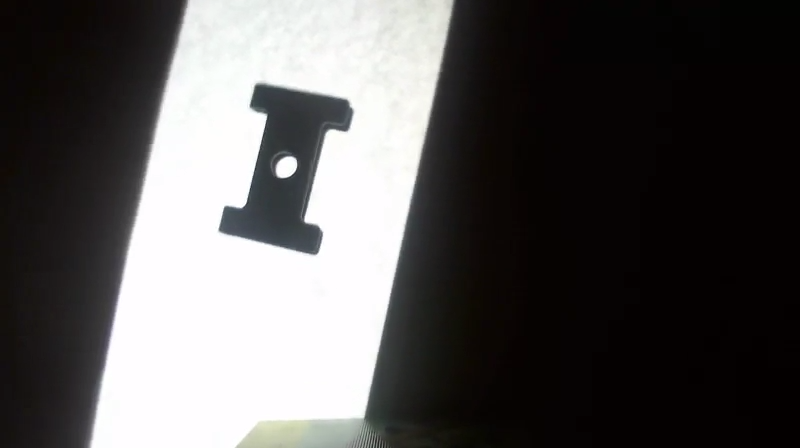O002: (214, 81, 355, 258)
